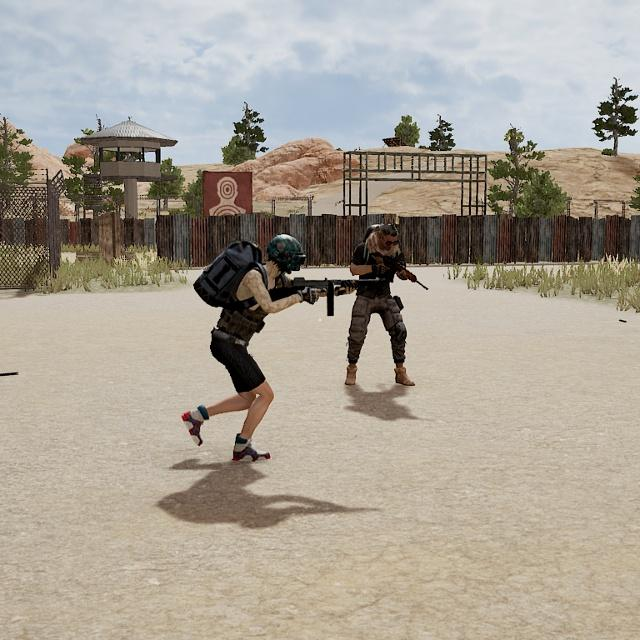head: (264, 232, 306, 276), (376, 221, 402, 254)
people: (178, 229, 307, 466), (340, 219, 422, 392)
